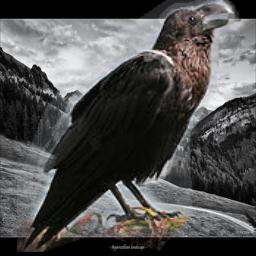Crow: (17, 0, 240, 252)
